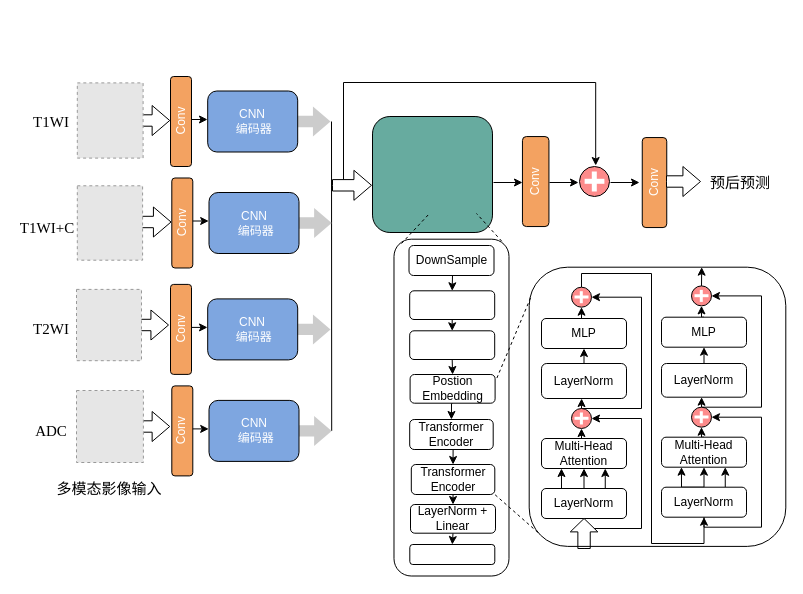
This 803x594 diagram has some shape labels left out. Grey dashed boxes stand in for pictures. Each missing label, with the box of its shape:
Embedding: (409, 290, 495, 320)
token: (409, 330, 495, 360)
Transformer模块: (372, 116, 492, 232)
UpSample: (409, 544, 495, 564)
